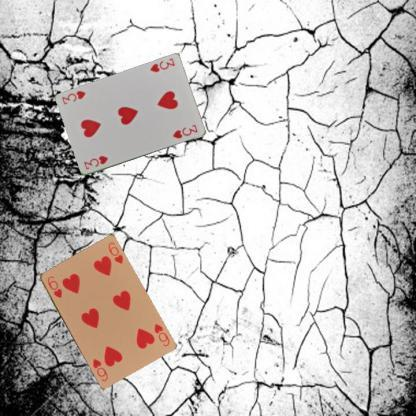3h: (80, 153, 110, 171), (148, 55, 176, 74)
6h: (44, 272, 63, 300), (152, 321, 170, 348)
